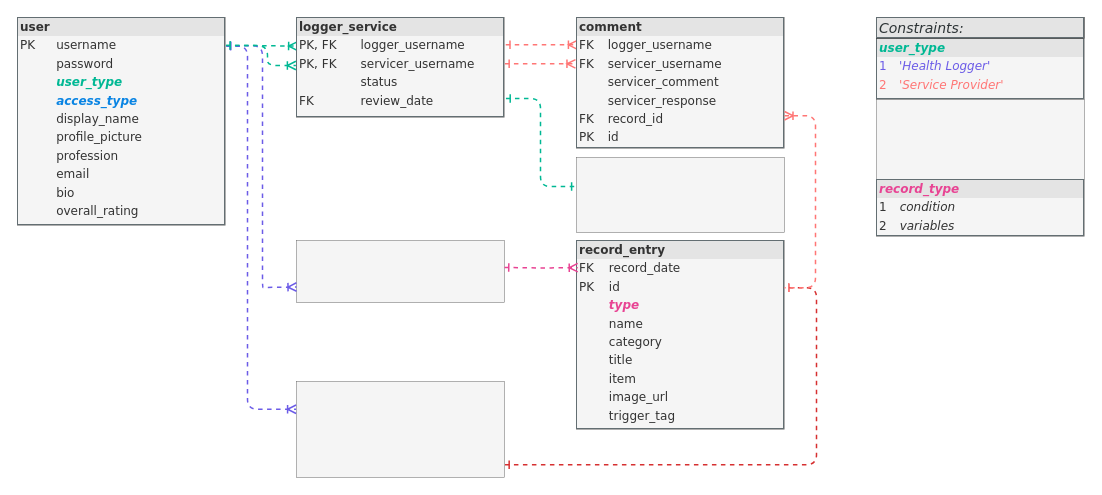
This 1102x495 diagram has some shape labels left out. The shapes that lost their labels are listed below. From the top down, each one's centre as x and y in pixels, then its label:
At pixel 980 139: "access_type 1 'Private' 2 'Public' 3 'Protected'".
At pixel 680 194: "review PK date logger_review logger_rating".
At pixel 400 271: "record PK date FK logger_username".
At pixel 400 429: "triggers FK logger_username trigger_condition trigger_variable PK, FK trigger_id".
